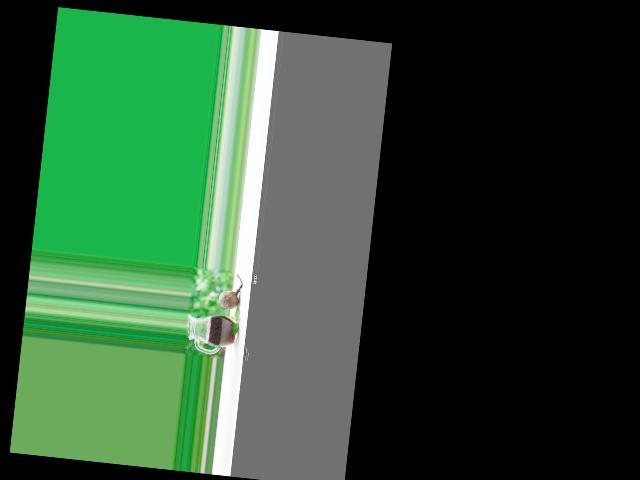beet: (218, 273, 243, 311)
